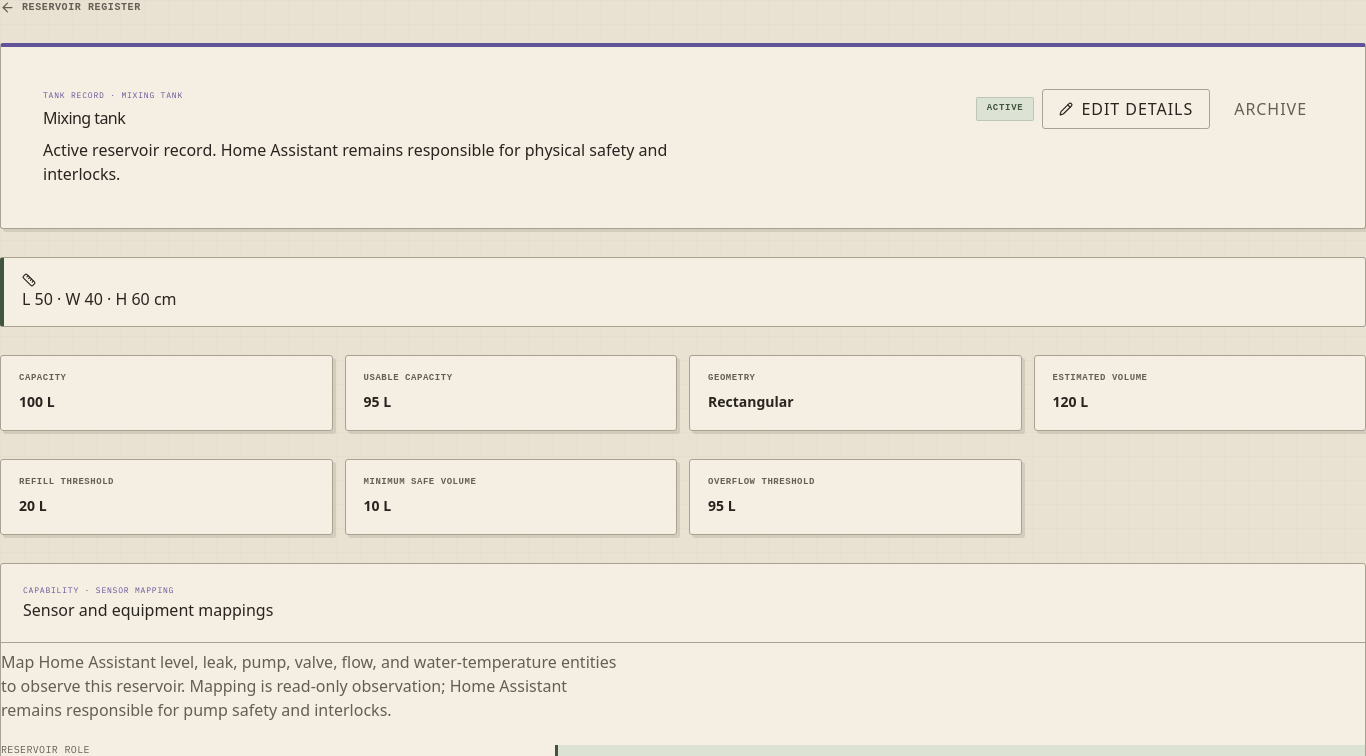
ReservoirDetailContent › opens the details editor
Expected: the heading "Mixing tank" is shown, [43,107,125,129]
Click the button "Edit details". click: (1126,109)
box: [1042,89,1210,129]
(page scrolled)
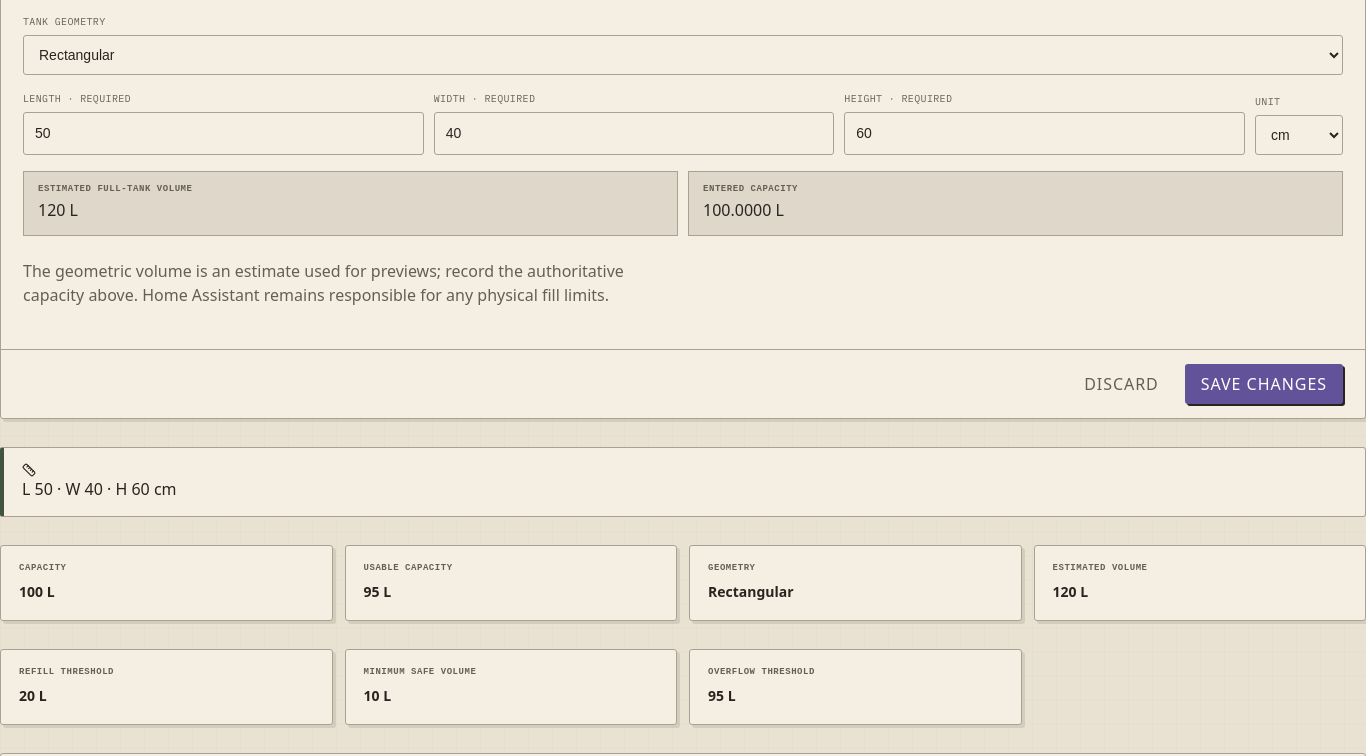
Expected: the button "Save changes" is shown, [1185,364,1343,404]
